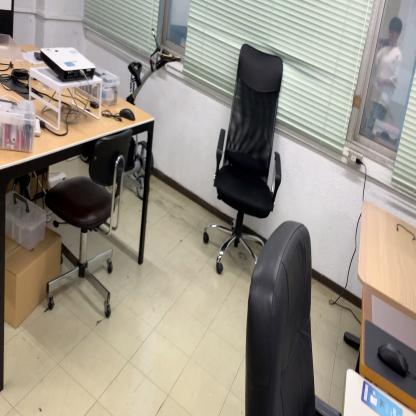chair: (242, 218, 341, 416), (202, 41, 285, 276), (44, 125, 134, 318)
